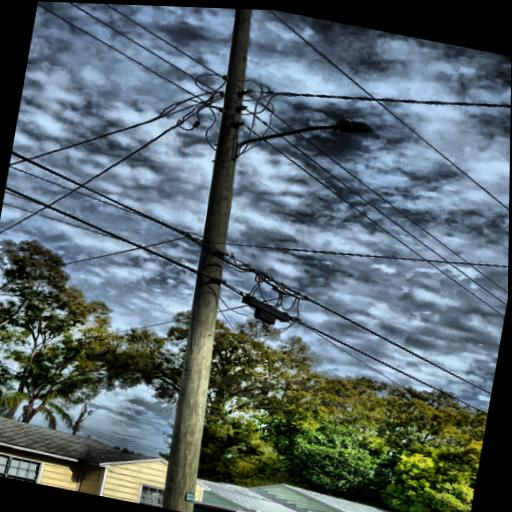pole: (137, 5, 311, 512)
street light: (226, 91, 378, 189)
